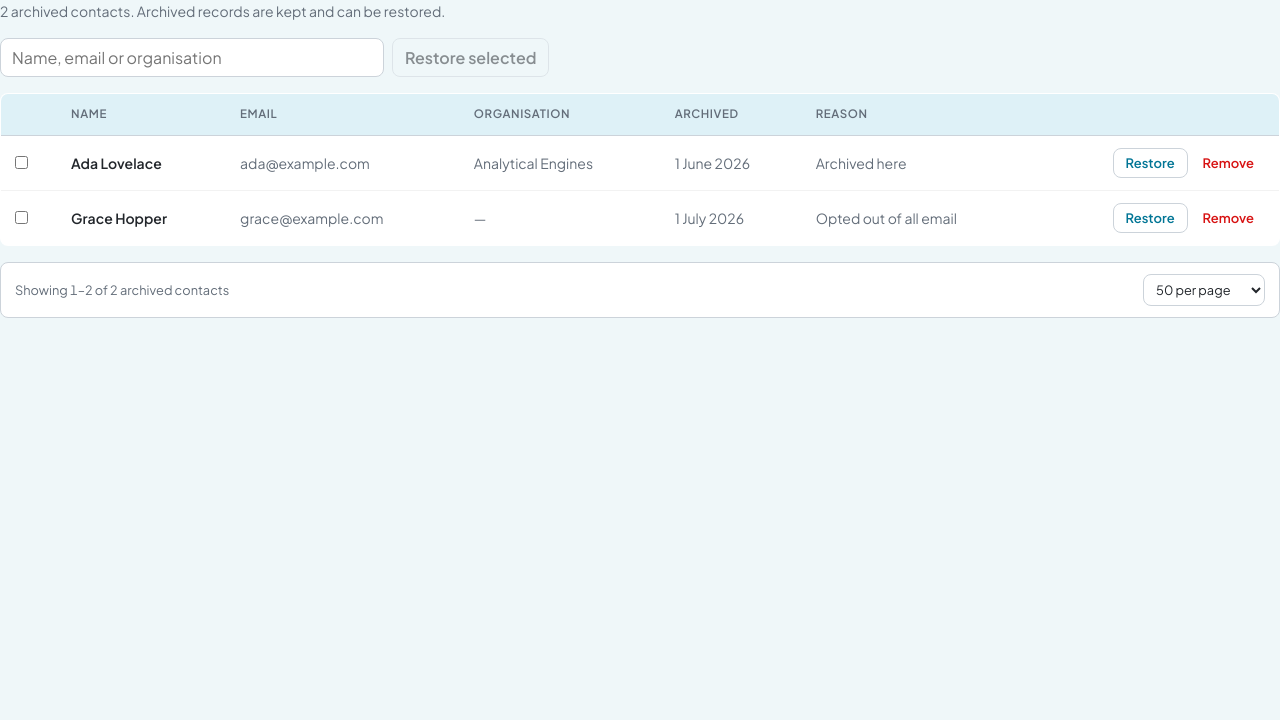
ArchiveView › asks once before restoring a selection, naming any opted-out contacts
Click the checkbox named "Select Ada Lovelace".
click(22, 162)  # box [15,156,28,169]
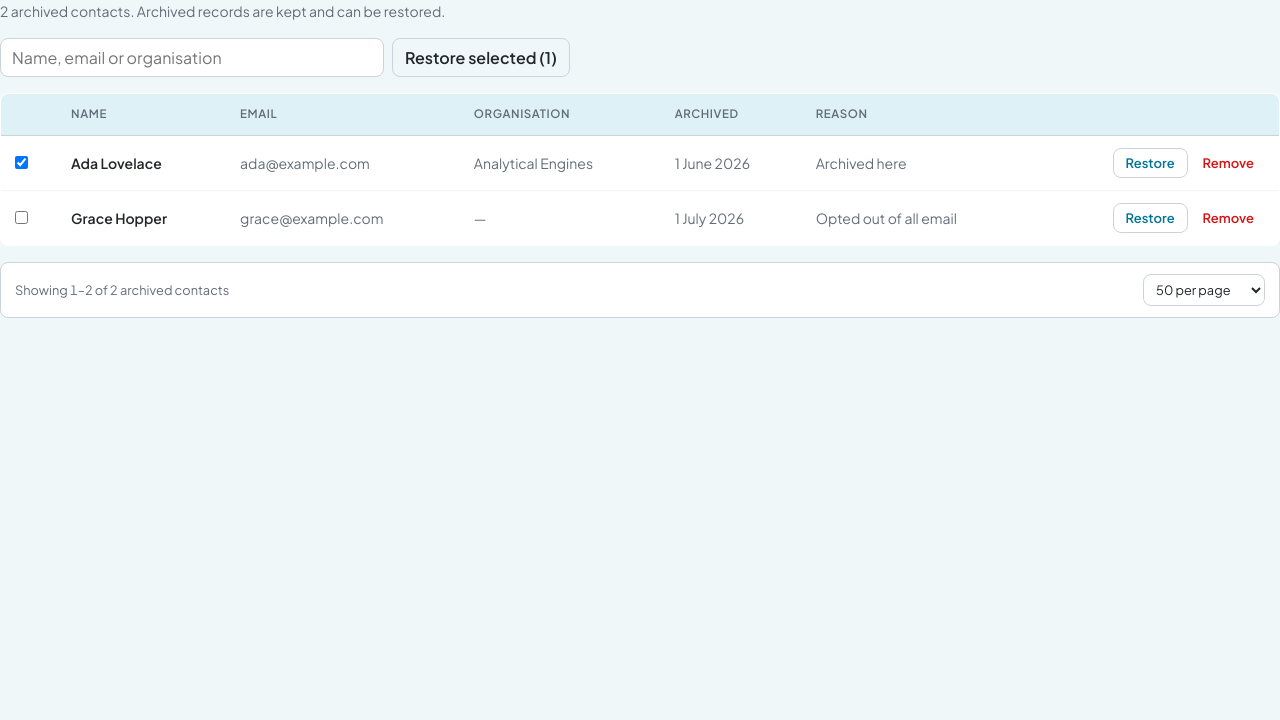
Click the checkbox named "Select Grace Hopper".
click(22, 217)  # box [15,211,28,224]
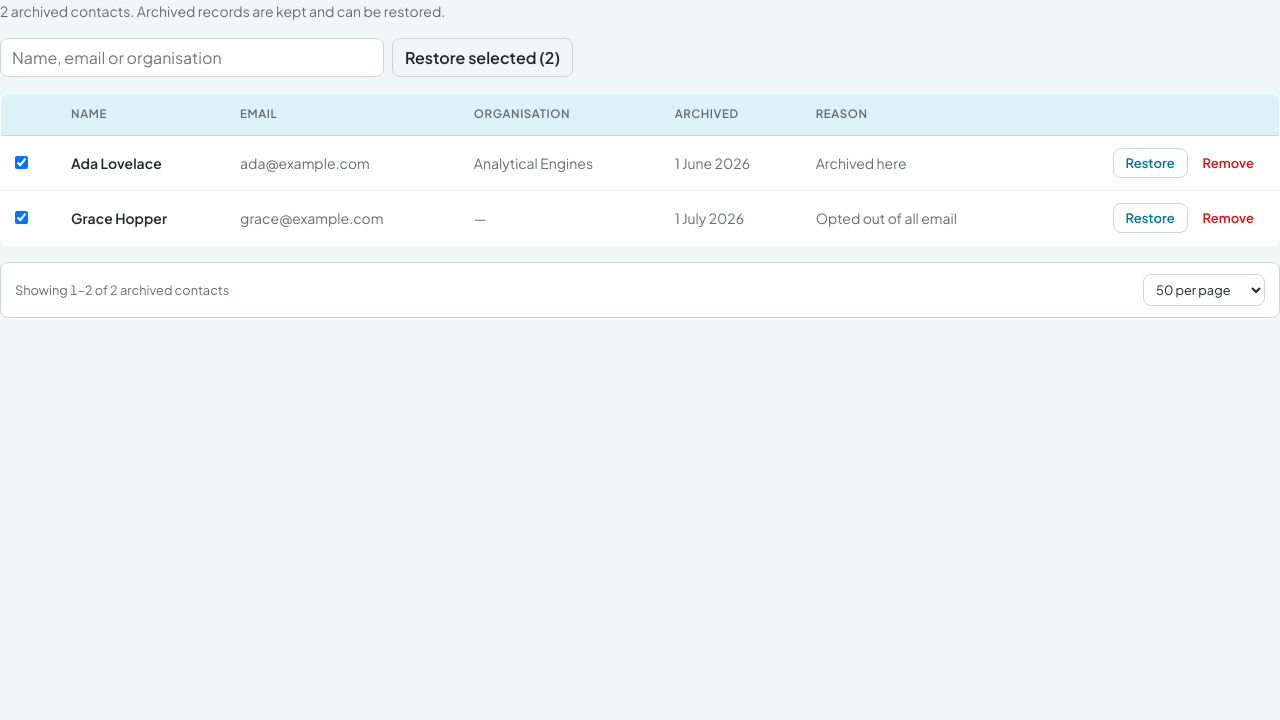
Click the button with test id "restore-selected".
click(482, 58)  # box [392,38,573,77]
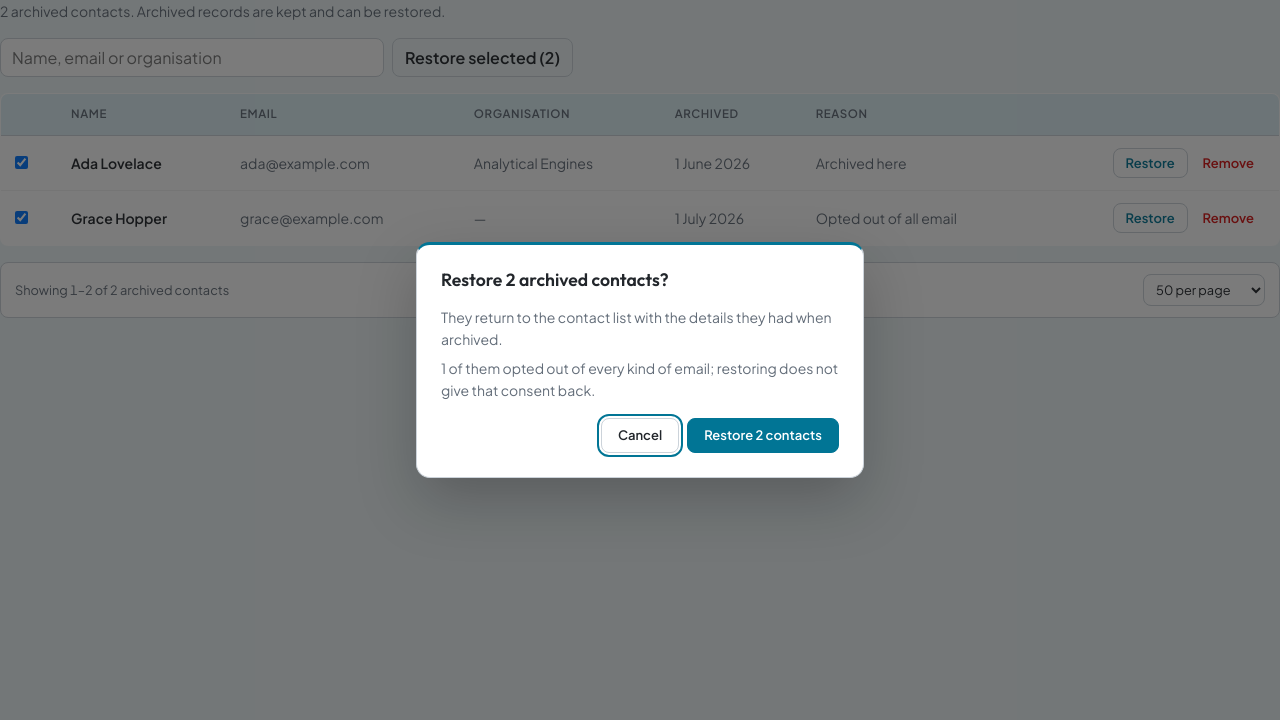
Now the dialog with test id "confirm-dialog" shows "Restore 2 archived contacts?", box [441,268,669,291]
Now the dialog with test id "confirm-dialog" shows "1 of them opted out", box [416,242,864,478]
Click the button with test id "confirm-dialog-confirm".
click(763, 435)  # box [687,418,839,453]
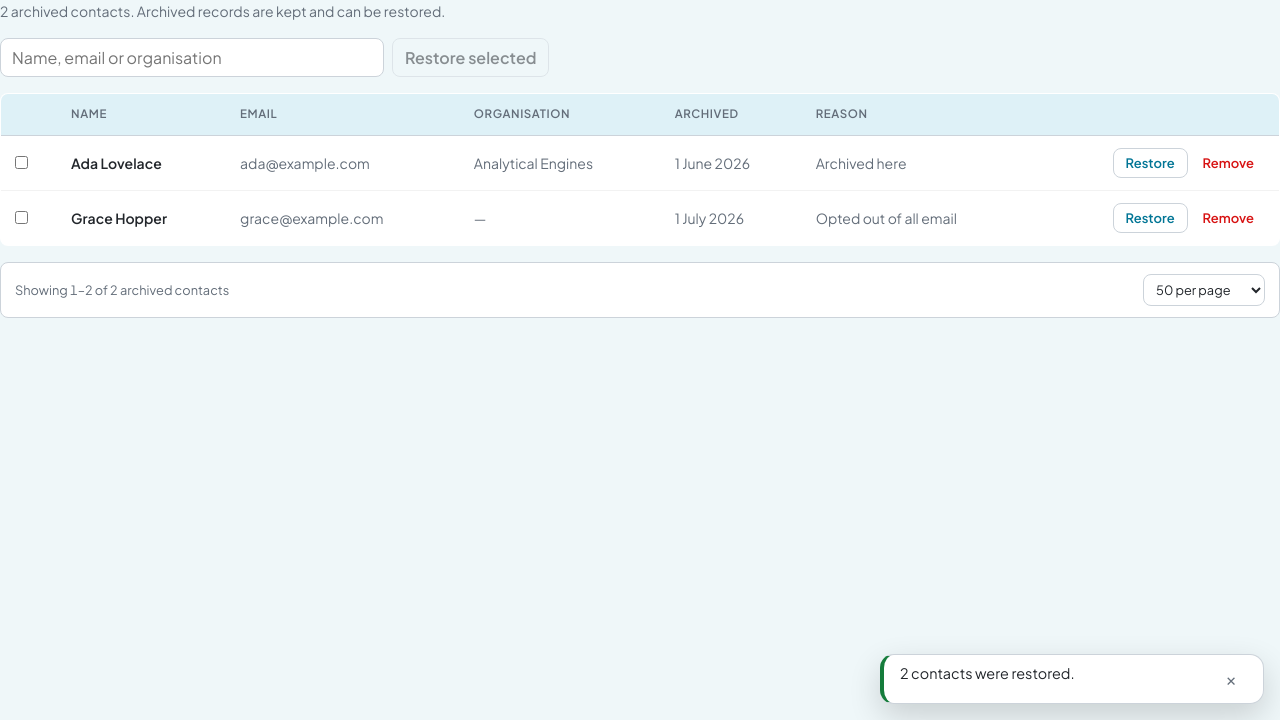
Now the list item with test id "toast-success" shows "2 contacts were restored.", box [900,664,1075,682]
